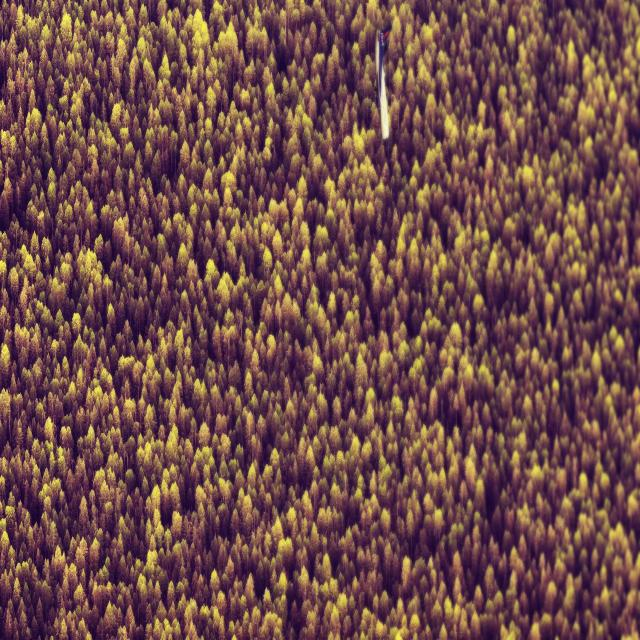airplane: (375, 25, 391, 140)
